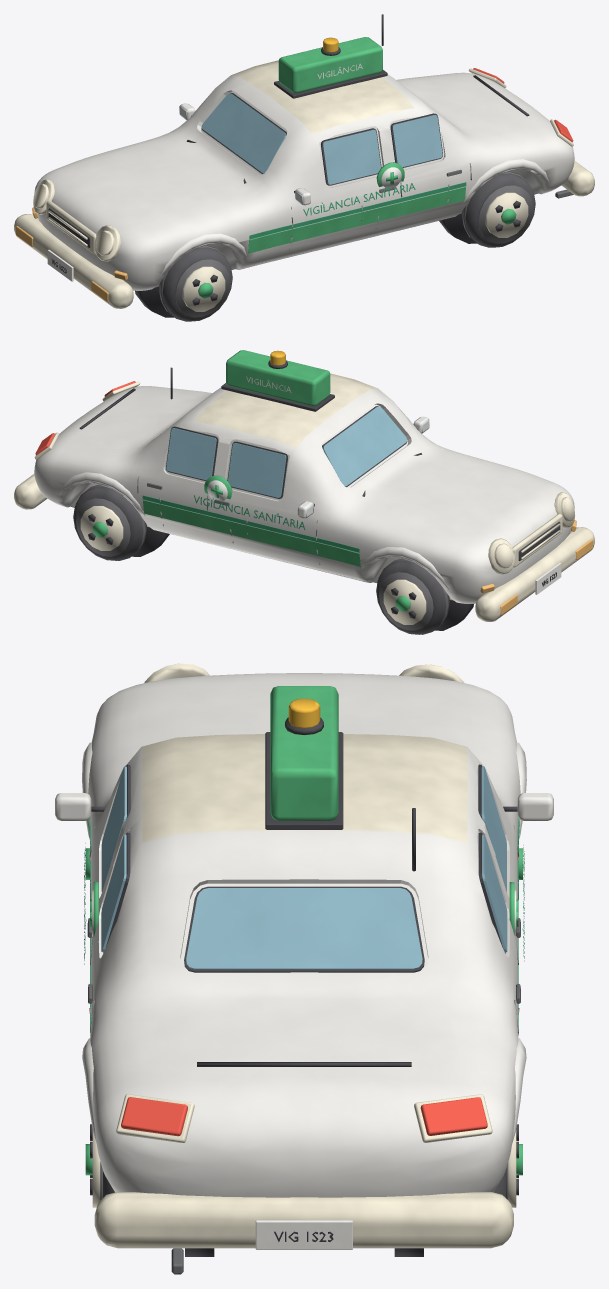
Rendered from Rig_InspectionCar.fbx.
3 views of the same model, one above another, from view 1: azimuth 30°, elevation 25°; view 2: azimuth 150°, elevation 25°; view 3: azimuth 270°, elevation 25° (orthographic). The views are drawn at different scales.
Parts seen in each view (by area): view 1: Vigilancia_Car__Body, Vigilancia_Car__Wheel_F_L, Vigilancia_Car__Wheel_R_L; view 2: Vigilancia_Car__Body, Vigilancia_Car__Wheel_F_R, Vigilancia_Car__Wheel_R_R; view 3: Vigilancia_Car__Body, Vigilancia_Car__Wheel_R_L, Vigilancia_Car__Wheel_R_R.
Part boxes in pixels (box(x1,y1,x2,y2)): Vigilancia_Car__Body: box(14, 14, 594, 317); Vigilancia_Car__Wheel_F_L: box(159, 245, 232, 321); Vigilancia_Car__Wheel_R_L: box(461, 171, 535, 247); Vigilancia_Car__Body: box(14, 350, 594, 630); Vigilancia_Car__Wheel_F_R: box(376, 558, 449, 634); Vigilancia_Car__Wheel_R_R: box(73, 484, 146, 560); Vigilancia_Car__Body: box(55, 663, 553, 1274); Vigilancia_Car__Wheel_R_L: box(85, 1124, 114, 1207); Vigilancia_Car__Wheel_R_R: box(493, 1124, 522, 1207).
Bounding box in the file's own units: 4.65 × 1.92 × 2.05.
